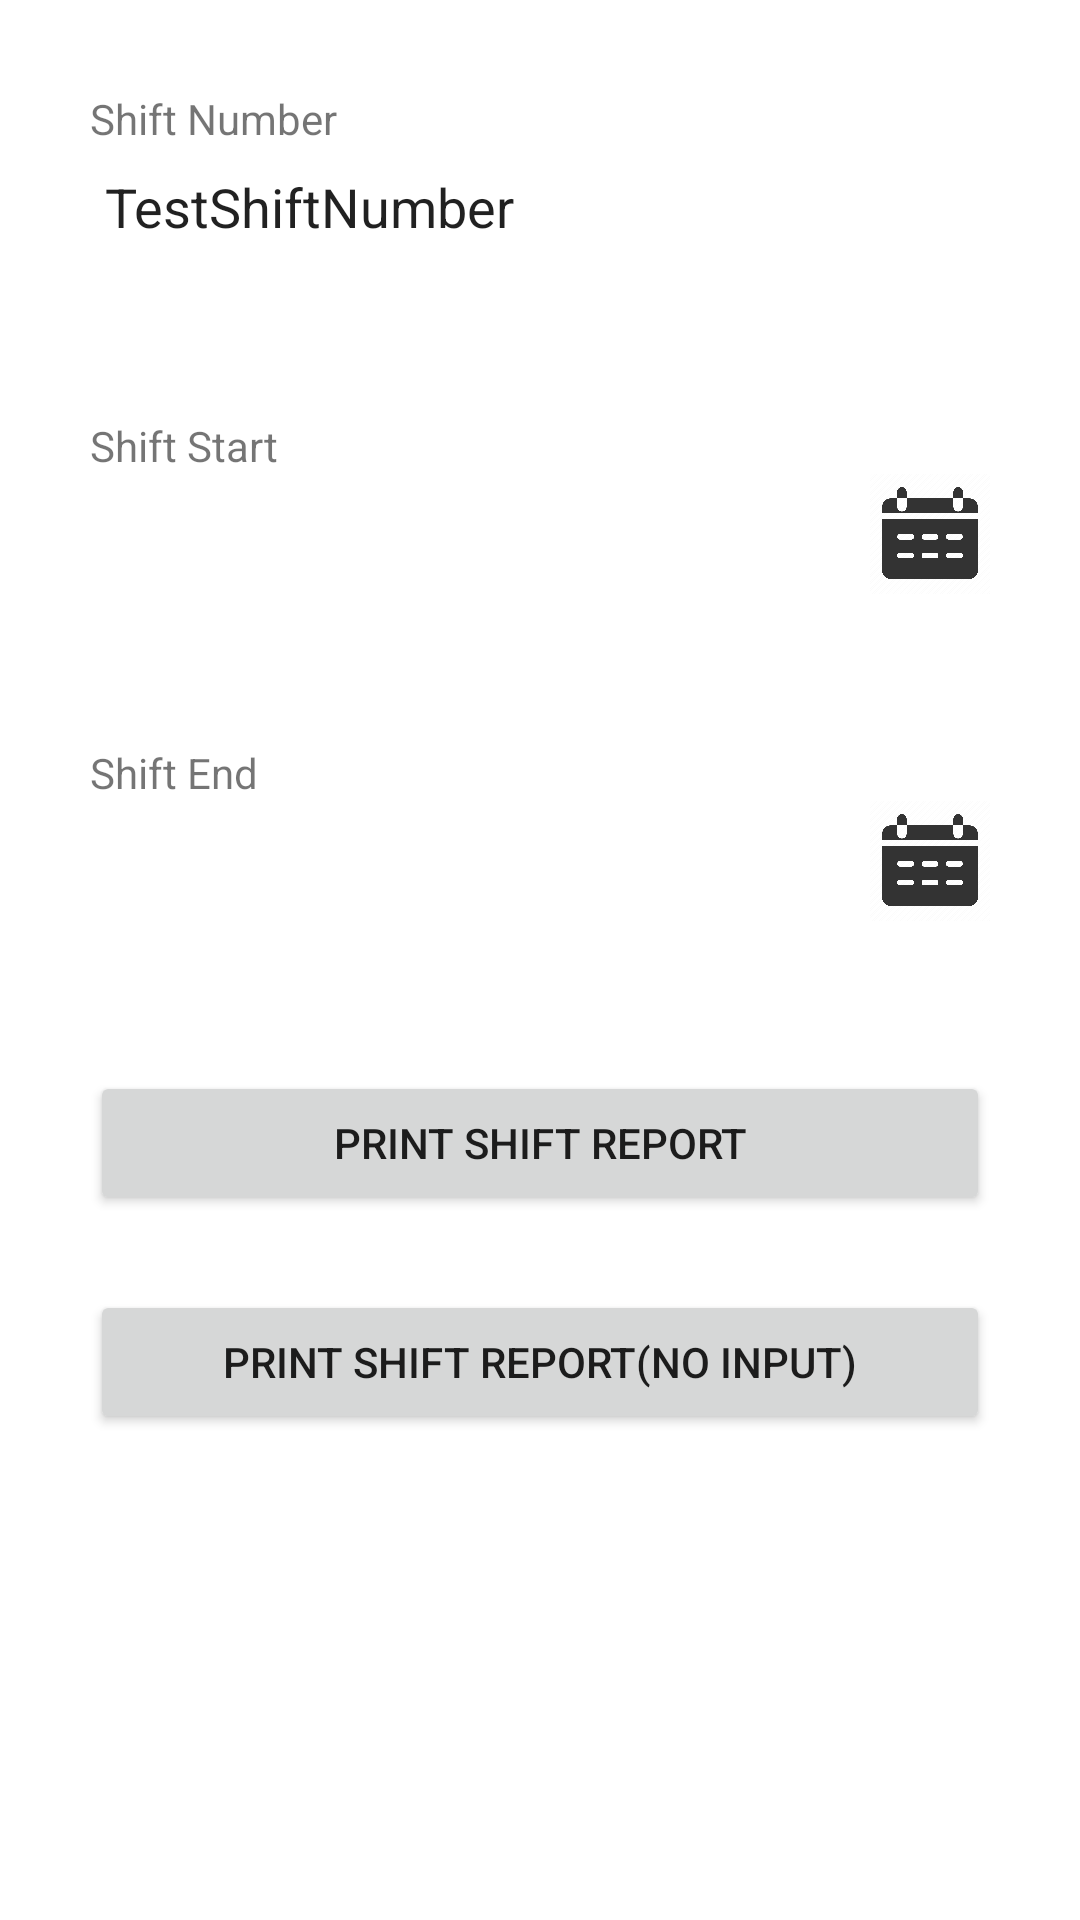

Named icons in this screenshot (1080 x 1920) and their centers, (x,y):
calendar: (930,533), (930,860)
